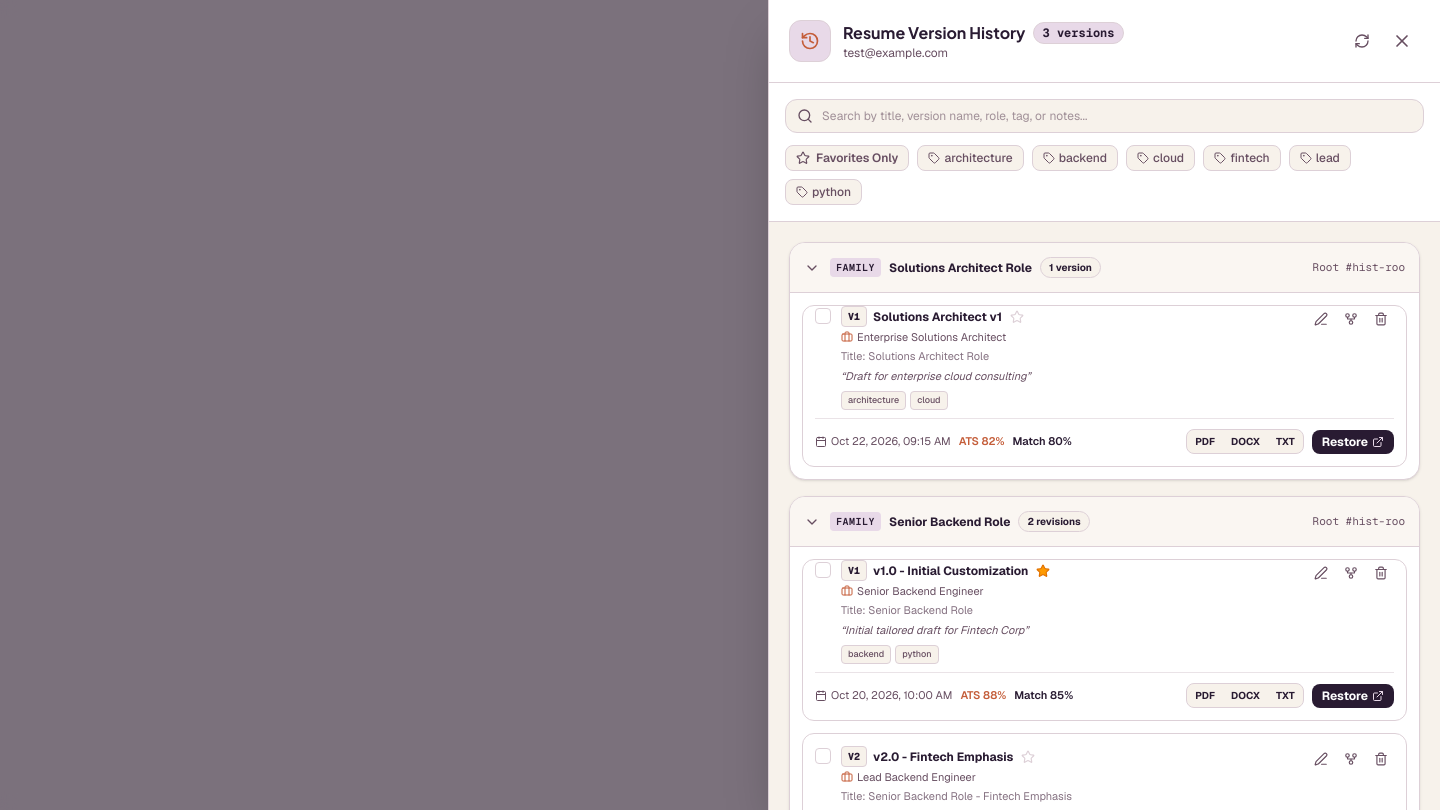
Test case: HistoryDrawer Component › filters items by keyword search
Expected: the text "Solutions Architect Role" is shown, [889,260,1032,276]
In the field with placeholder "Search by title, version name, role, tag, or notes...": [1104, 116] box [785,99,1424,133], type "Fintech"
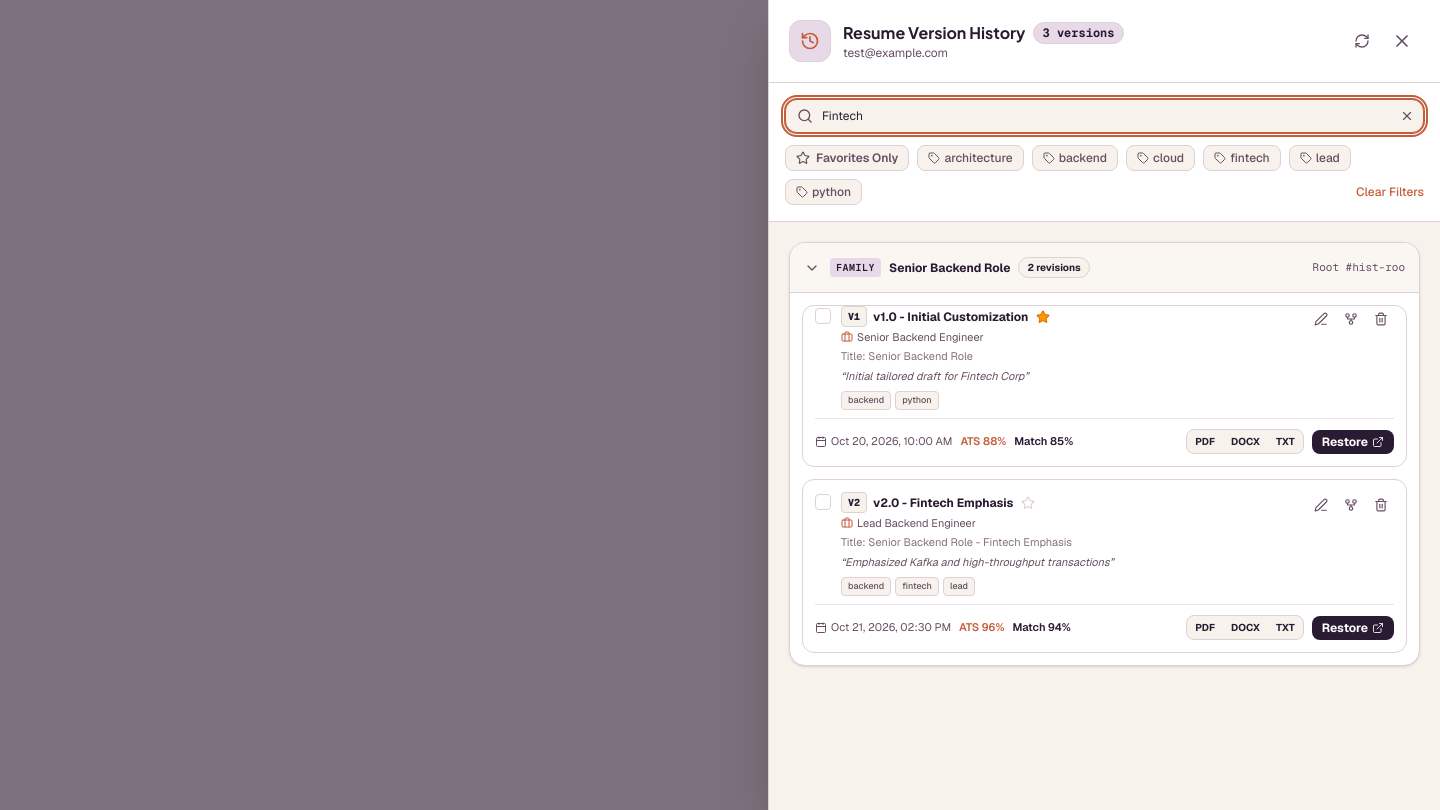
Expected: the heading "v2.0 - Fintech Emphasis" is shown, [873,494,1013,510]
Expected: the text "Solutions Architect Role" is gone
